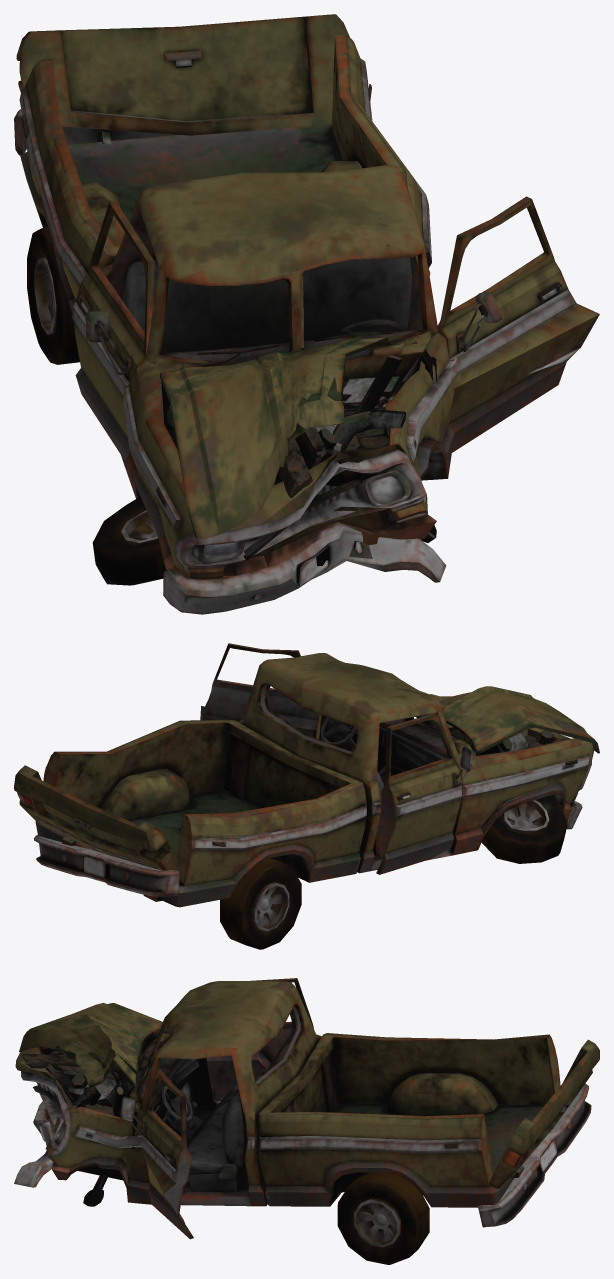
Rendered from crashed-abondoned-truck.fbx.
3 views of the same model, one above another, from view 1: azimuth 30°, elevation 25°; view 2: azimuth 150°, elevation 25°; view 3: azimuth 270°, elevation 25° (orthographic). The views are drawn at different scales.
Visible parts, largest first — view 1: KUZA, BAQAJ DOOR, KAPOT, QAPI, QAPI.001, ON-BUFER, ENGINE, TEKER.004, TEKER.003, ON-BUFER.001; view 2: KUZA, QAPI.001, BAQAJ DOOR, KAPOT, TEKER.004, TEKER.003, ON-BUFER.001, QAPI, SALON, ENGINE, ROL; view 3: KUZA, TEKER.002, KAPOT, QAPI, ON-BUFER.001, BAQAJ DOOR, ENGINE, QAPI.001, SALON, ON-BUFER, ROL.
Boxes of the visible parts, x1,y1,x2,y2 form: KUZA: [19, 35, 458, 579]; BAQAJ DOOR: [16, 14, 349, 135]; KAPOT: [160, 336, 388, 539]; QAPI: [437, 196, 599, 452]; QAPI.001: [72, 201, 154, 459]; ON-BUFER: [163, 522, 446, 614]; ENGINE: [166, 355, 406, 498]; TEKER.004: [27, 226, 79, 364]; TEKER.003: [92, 496, 166, 585]; ON-BUFER.001: [14, 109, 178, 155]; KUZA: [35, 653, 593, 907]; QAPI.001: [376, 713, 473, 874]; BAQAJ DOOR: [14, 765, 177, 870]; KAPOT: [422, 686, 599, 754]; TEKER.004: [220, 858, 301, 949]; TEKER.003: [481, 795, 567, 863]; ON-BUFER.001: [34, 835, 179, 896]; QAPI: [200, 643, 321, 739]; SALON: [325, 716, 448, 785]; ENGINE: [415, 715, 569, 755]; ROL: [320, 717, 356, 745]; KUZA: [15, 981, 560, 1207]; TEKER.002: [337, 1172, 429, 1264]; KAPOT: [19, 1003, 167, 1087]; QAPI: [120, 1069, 193, 1239]; ON-BUFER.001: [478, 1083, 591, 1227]; BAQAJ DOOR: [489, 1039, 599, 1188]; ENGINE: [21, 1041, 145, 1117]; QAPI.001: [206, 978, 313, 1105]; SALON: [132, 1058, 203, 1149]; ON-BUFER: [14, 1101, 52, 1187]; ROL: [161, 1080, 192, 1121].
Size of the model in its own units: 2223 by 1103 by 3123.
1 material, 1 textured.
